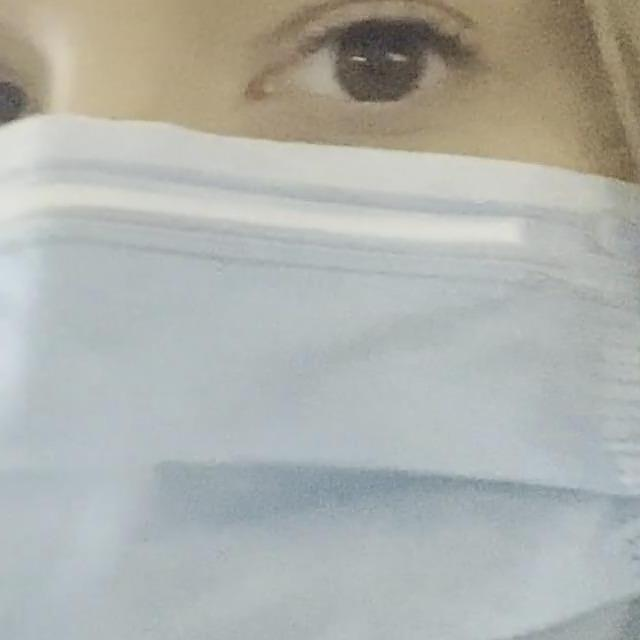Mask: (0, 120, 640, 640)
Person: (0, 0, 640, 640)
